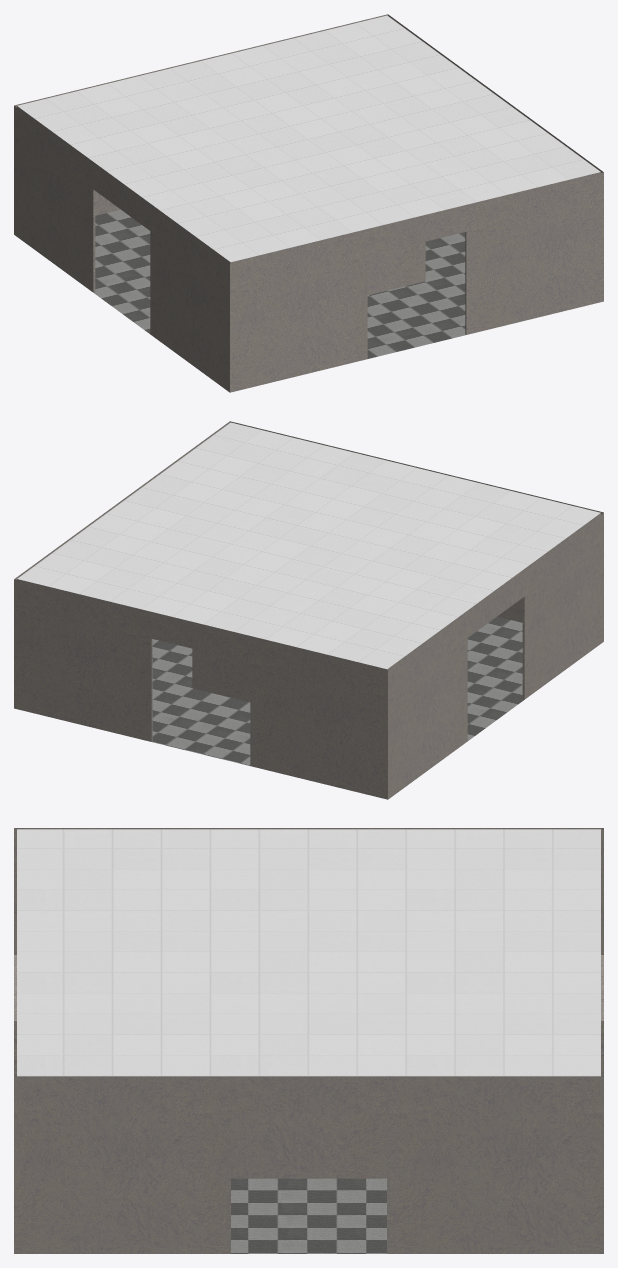
Rendered from 4exittrap.glb.
3 views of the same model, one above another, from view 1: azimuth 30°, elevation 25°; view 2: azimuth 150°, elevation 25°; view 3: azimuth 270°, elevation 25° (orthographic). The views are drawn at different scales.
Visible parts, largest first — view 1: 4exittrap; view 2: 4exittrap; view 3: 4exittrap.
Boxes of the visible parts, <box> form: 4exittrap: <box>14,14,603,392</box>; 4exittrap: <box>14,421,603,799</box>; 4exittrap: <box>14,828,603,1253</box>.
Size of what is drawn, in the model's own units: 15.15 by 5 by 15.15.
Materials: 3 (3 with a texture image).
